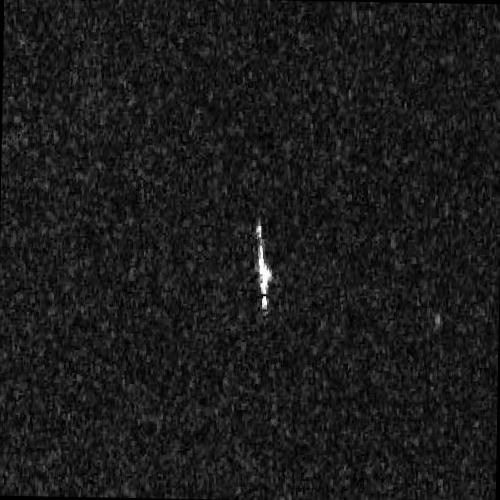ship: (255, 220, 272, 314)
